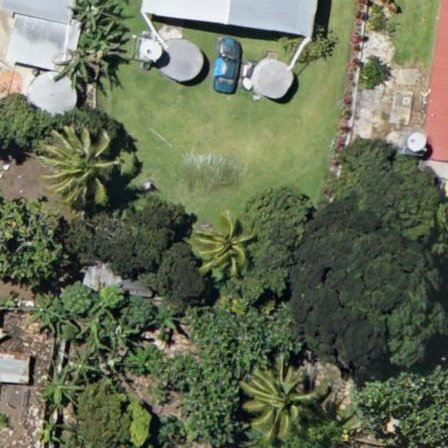palm_tree: (39, 124, 119, 209), (244, 364, 313, 437), (198, 206, 263, 275)
